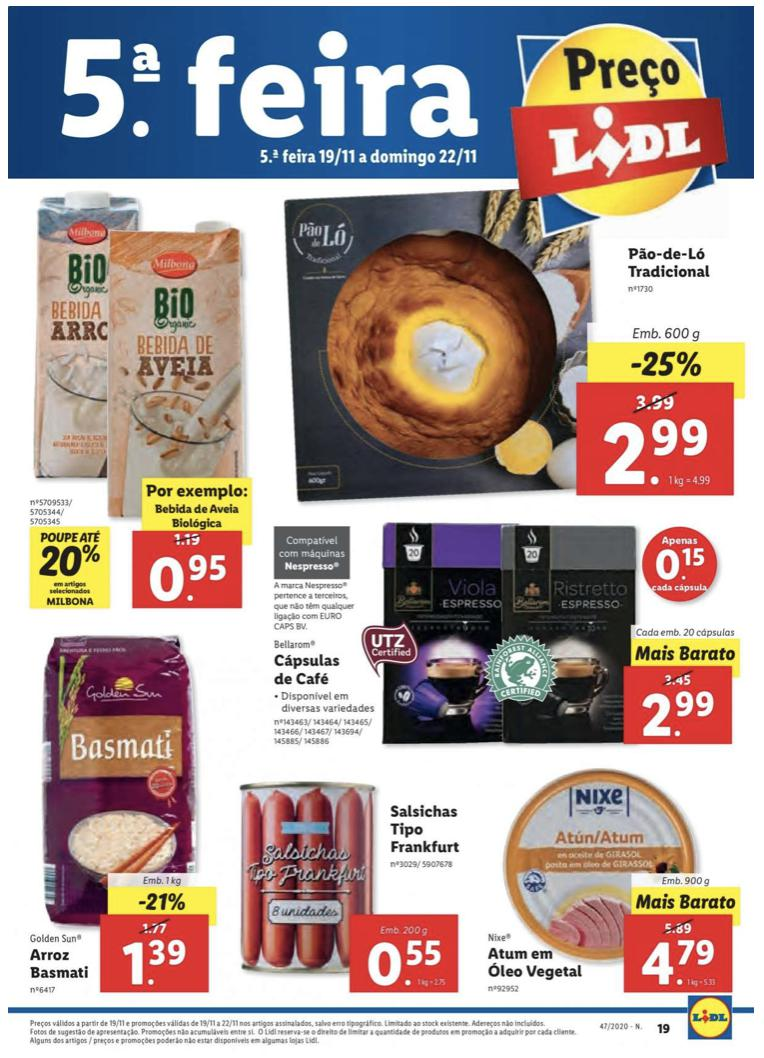name: (387, 800, 466, 856), (484, 943, 586, 983), (622, 242, 717, 283), (272, 650, 344, 687), (22, 947, 95, 983)
price: (603, 414, 716, 495), (147, 551, 232, 606), (637, 937, 717, 992), (365, 938, 446, 991), (641, 691, 719, 739), (120, 941, 192, 989)
product: (267, 189, 758, 508), (266, 514, 753, 772), (19, 184, 259, 624), (9, 621, 219, 1003), (479, 751, 745, 1003), (219, 779, 478, 1003)
promotion: (624, 346, 707, 379), (37, 543, 103, 581), (133, 891, 187, 916)
